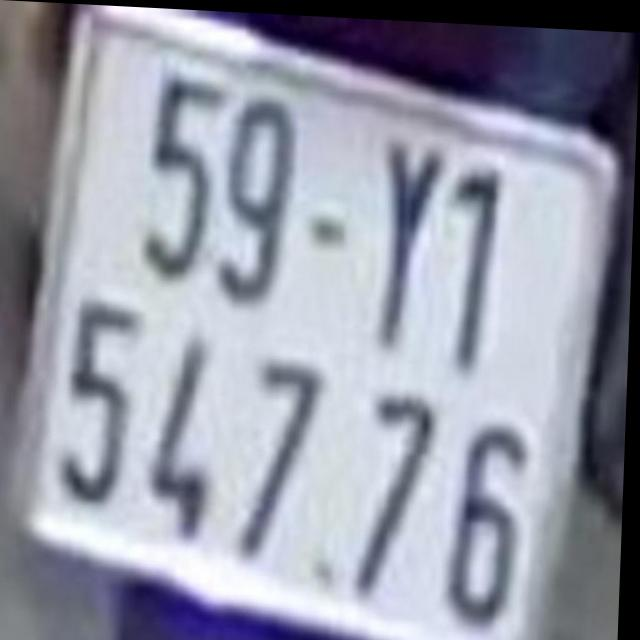1: (448, 157, 500, 365)
4: (153, 329, 225, 539)
5: (62, 294, 138, 509), (146, 67, 215, 275)
6: (458, 415, 532, 625)
7: (248, 351, 326, 572), (364, 386, 436, 607)
9: (221, 93, 294, 297)
Y: (371, 130, 444, 350)
